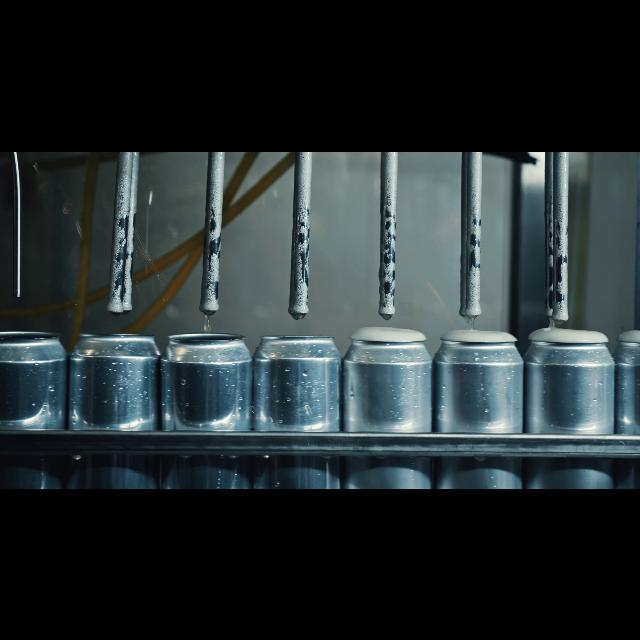empty: (164, 324, 252, 488), (73, 322, 155, 488), (257, 324, 339, 488), (0, 318, 66, 488)
full: (344, 316, 430, 488), (436, 320, 520, 488), (528, 318, 610, 488), (616, 318, 640, 488)
